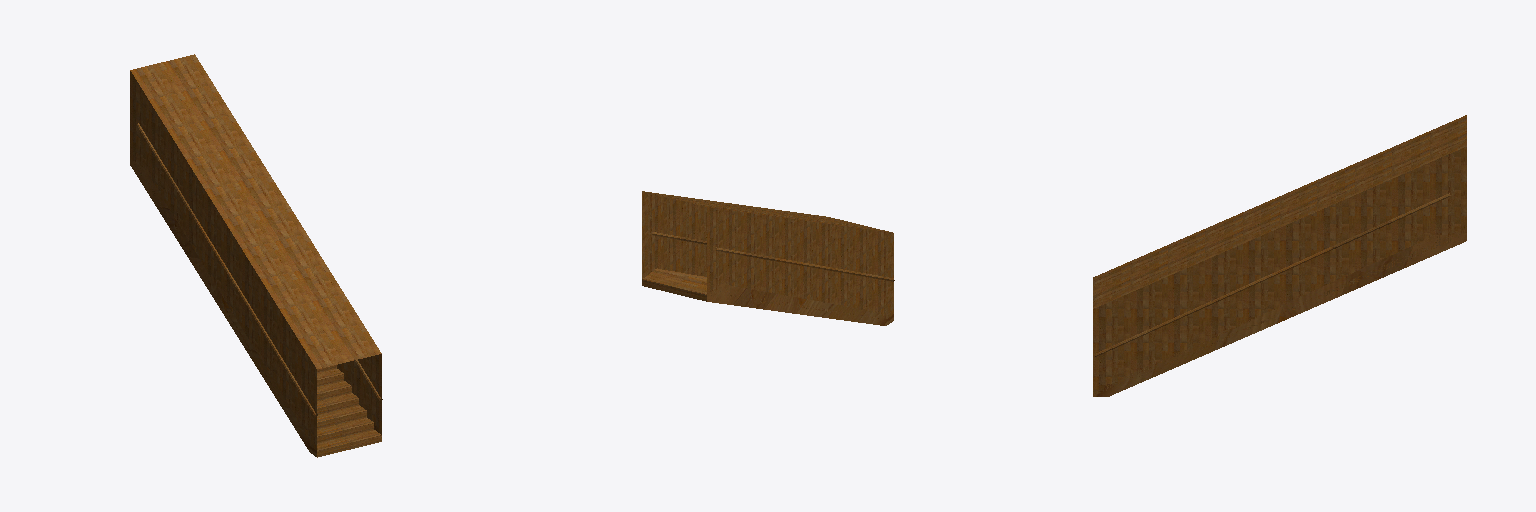
The picture shows the model from 3 angles: view 1: azimuth 30°, elevation 25°; view 2: azimuth 150°, elevation 25°; view 3: azimuth 270°, elevation 25°; orthographic projection.
Parts seen in each view (by area): view 1: Box001, StraightStair001; view 2: Box001, StraightStair001; view 3: Box001, StraightStair001.
Part boxes in pixels (left/top/right/bottom): Box001: left=130, top=54, right=381, bottom=449; StraightStair001: left=130, top=123, right=382, bottom=457; Box001: left=642, top=191, right=893, bottom=318; StraightStair001: left=642, top=232, right=894, bottom=325; Box001: left=1093, top=115, right=1466, bottom=396; StraightStair001: left=1093, top=193, right=1466, bottom=396.
Size of the model in its own units: 2.1 by 7.4 by 10.
Materials: 1 (1 with a texture image).